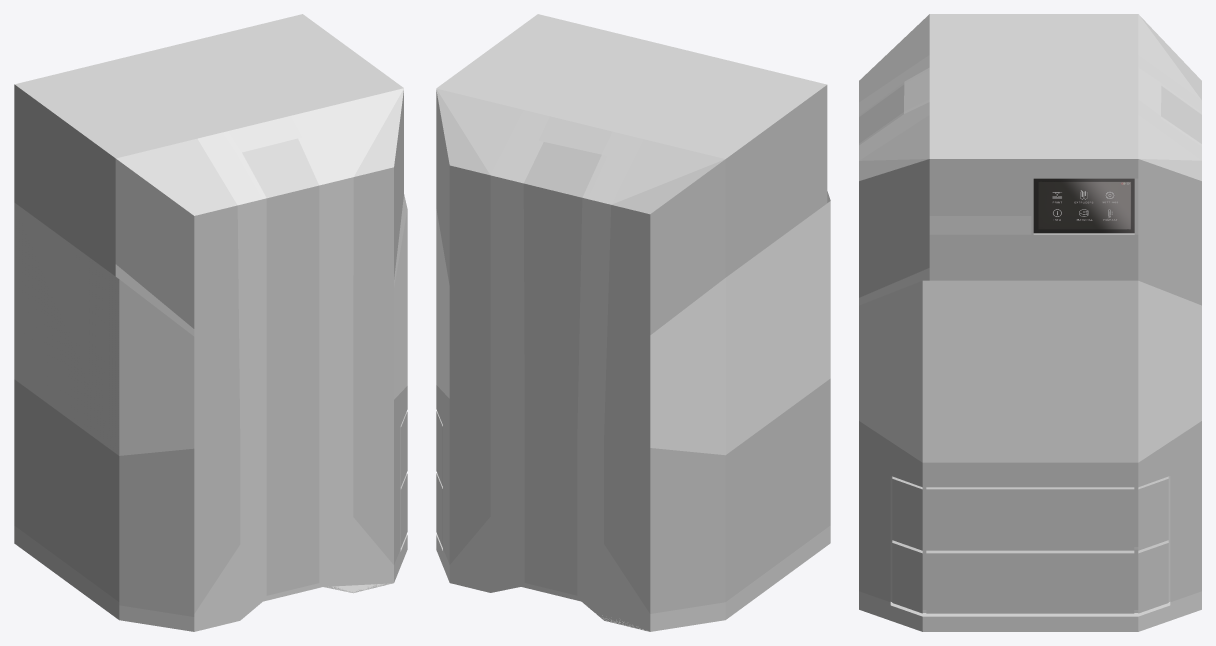
Rendered from EDUMethodX2.fbx.
3 renders of one model, left to right at view 1: azimuth 30°, elevation 25°; view 2: azimuth 150°, elevation 25°; view 3: azimuth 270°, elevation 25°, orthographic. The views are drawn at different scales.
Visible parts, largest first — view 1: Methodx.002, Methodx.001, glass; view 2: Methodx.002, Methodx.001, glass; view 3: Methodx.002, glass, Methodx.001, screen, blue.
Part boxes in pixels (x1,y1,x2,y2): Methodx.002: [14, 84, 407, 613]; Methodx.001: [14, 14, 407, 631]; glass: [14, 202, 407, 455]; Methodx.002: [436, 85, 830, 630]; Methodx.001: [436, 14, 830, 631]; glass: [436, 201, 830, 455]; Methodx.002: [859, 15, 1201, 616]; glass: [859, 280, 1201, 462]; Methodx.001: [859, 14, 1201, 631]; screen: [1033, 178, 1134, 233]; blue: [929, 216, 1031, 234].
Size of the model in its own units: 70 by 107 by 69.97.
